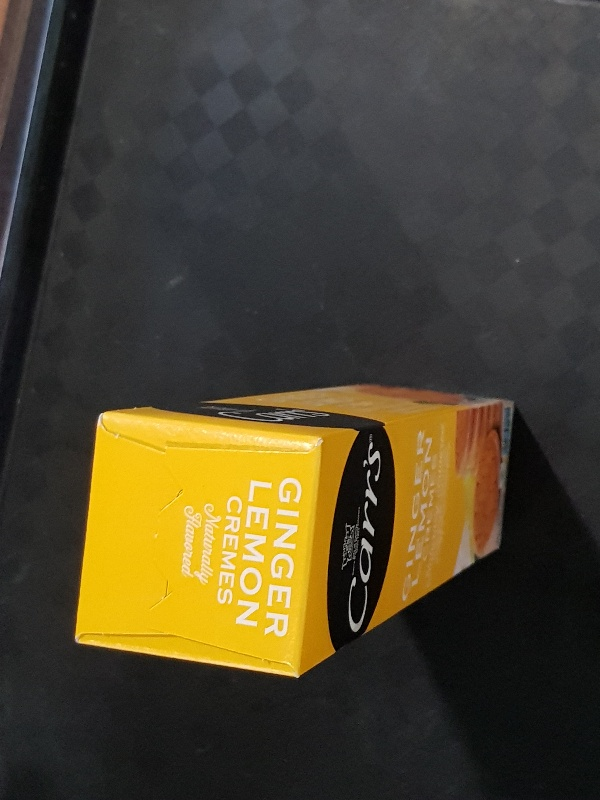Carr's Ginger Lemon Cremes: (72, 379, 516, 680)
